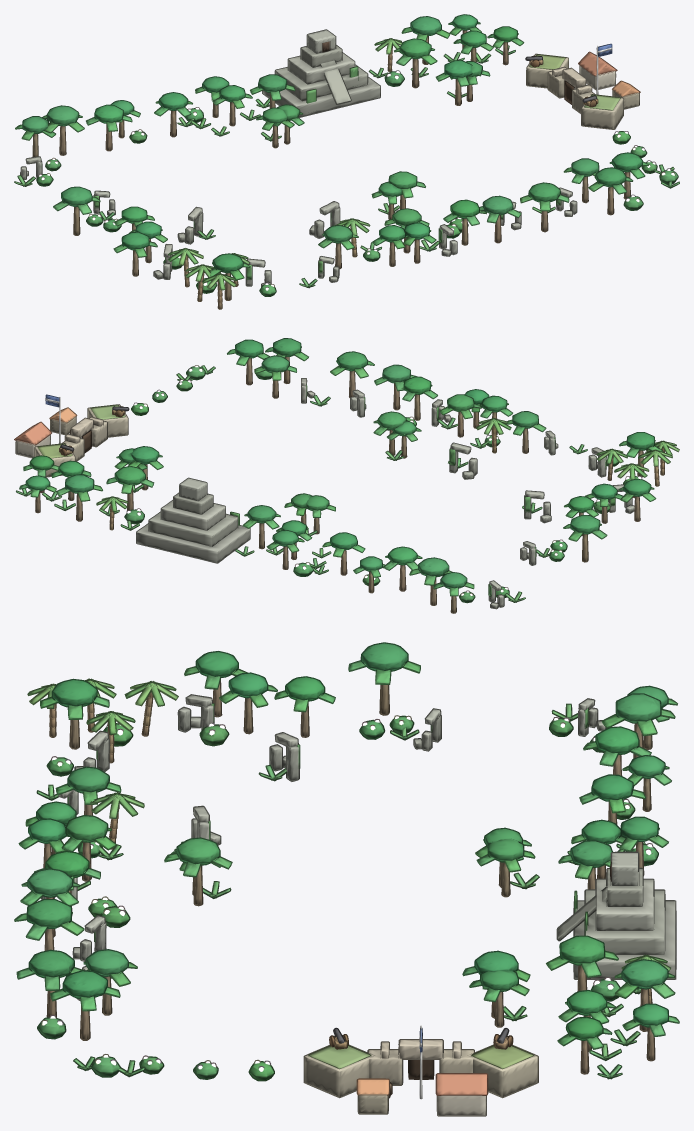
File: jungle_outpost.glb
3 views of the same model, one above another, from view 1: azimuth 30°, elevation 25°; view 2: azimuth 150°, elevation 25°; view 3: azimuth 270°, elevation 25° (orthographic). The views are drawn at different scales.
Visible parts, largest first — view 1: Baked_matte, Baked_matte_Outline; view 2: Baked_matte, Baked_matte_Outline; view 3: Baked_matte, Baked_matte_Outline.
Part boxes in pixels (x1,y1,x2,y2): Baked_matte: [15, 15, 679, 308]; Baked_matte_Outline: [14, 14, 679, 309]; Baked_matte: [15, 339, 678, 612]; Baked_matte_Outline: [14, 338, 679, 613]; Baked_matte: [15, 643, 678, 1115]; Baked_matte_Outline: [14, 642, 679, 1116].
Bounding box in the file's own units: 41.42 × 4.28 × 27.79.
